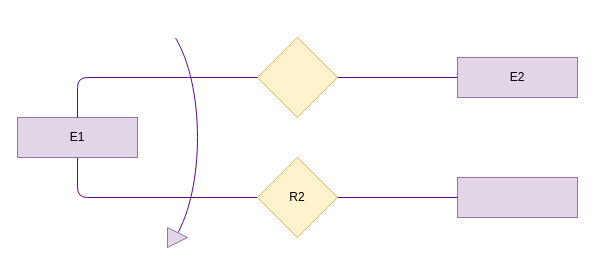
This 595x275 diagram has some shape labels left out. The shapes that lost their labels are listed below. From the top down, each one's box as (x1, y1, x2, y2) in pixels, then its label:
(256, 36, 338, 118): R1
(456, 176, 578, 218): E3
